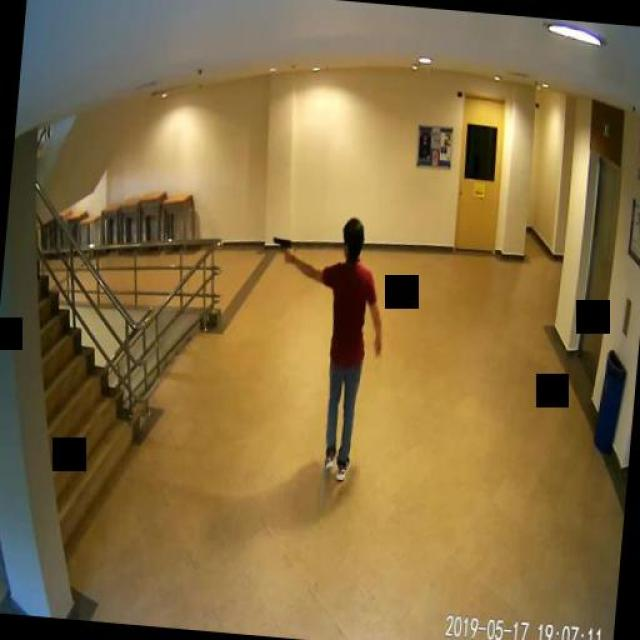gun: (271, 235, 291, 263)
